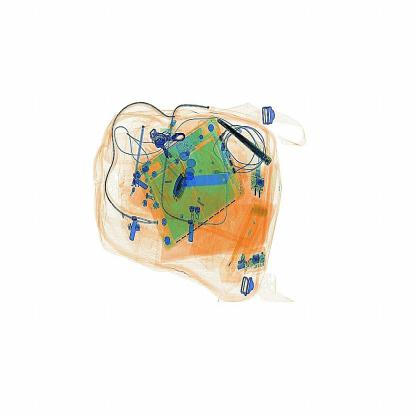pliers: (174, 162, 238, 196)
